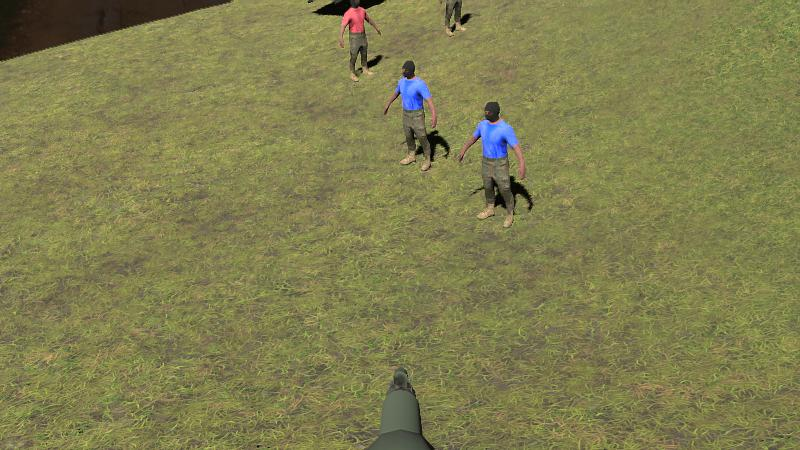Human: (459, 100, 525, 227), (383, 60, 436, 172), (340, 0, 381, 81)
